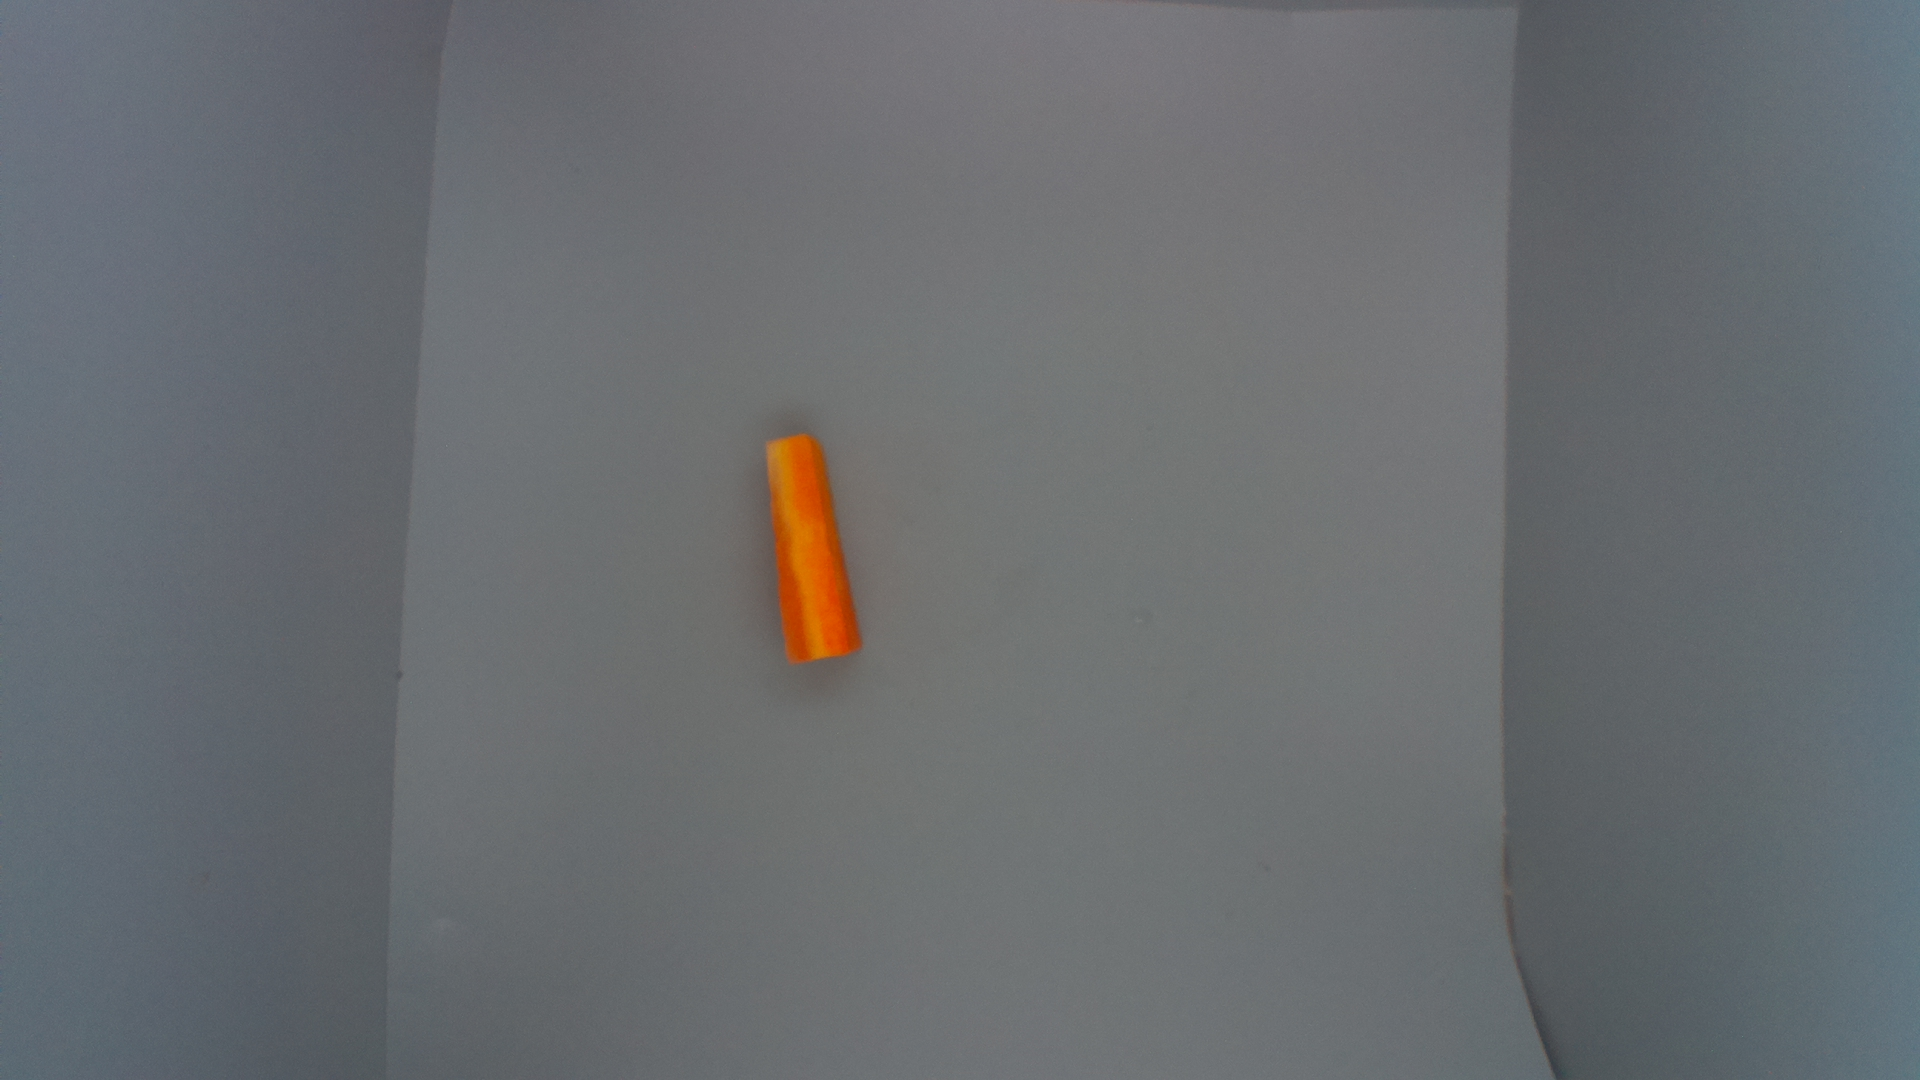carrot: (764, 433, 862, 669)
